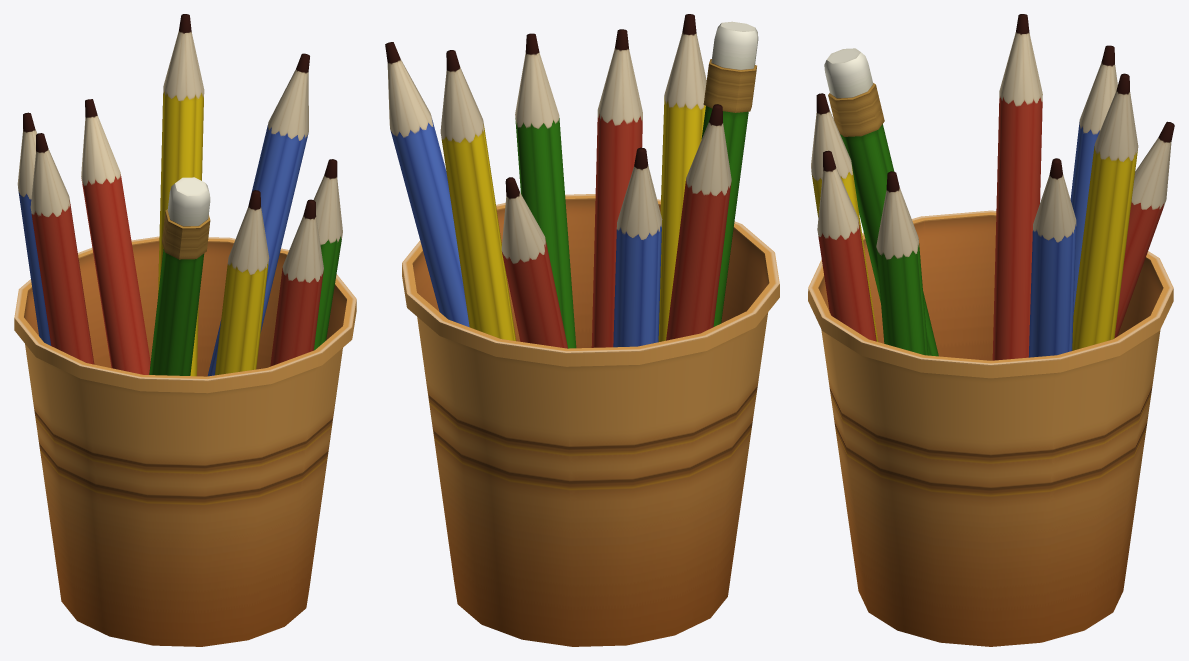
Rendered from obj_pen.FBX.
The picture shows the model from 3 angles, left to right: view 1: azimuth 30°, elevation 25°; view 2: azimuth 150°, elevation 25°; view 3: azimuth 270°, elevation 25°; orthographic projection. The views are drawn at different scales.
Parts seen in each view (by area): view 1: Cylinder_pen, pencle, pencle003, pencle002, pencle007, pencle008, pencle004, pencle005, pencle006, pencle001; view 2: Cylinder_pen, pencle008, pencle007, pencle002, pencle005, pencle006, pencle004, pencle001, pencle003, pencle; view 3: Cylinder_pen, pencle002, pencle008, pencle003, pencle007, pencle006, pencle005, pencle, pencle001, pencle004.
Boxes of the visible parts, x1,y1,x2,y2 form: Cylinder_pen: (14,236,356,646); pencle: (81,99,150,374); pencle003: (149,177,210,375); pencle002: (30,133,94,364); pencle007: (207,53,309,376); pencle008: (158,14,204,376); pencle004: (215,190,269,375); pencle005: (270,199,323,366); pencle006: (313,159,342,350); pencle001: (17,112,51,345); Cylinder_pen: (402,194,779,646); pencle008: (440,50,516,340); pencle007: (385,42,469,327); pencle002: (666,104,731,340); pencle005: (591,29,642,347); pencle006: (515,33,576,348); pencle004: (658,14,706,341); pencle001: (613,147,662,347); pencle003: (701,21,758,326); pencle: (501,177,567,348); Cylinder_pen: (808,210,1173,646); pencle002: (992,14,1042,360); pencle008: (1072,73,1138,350); pencle003: (824,48,938,356); pencle007: (1028,158,1076,357); pencle006: (876,171,928,355); pencle005: (817,150,876,341); pencle: (1114,121,1174,337); pencle001: (1070,45,1117,314); pencle004: (811,93,877,341).
Size of the model in its own units: 9.14 by 14.85 by 9.
